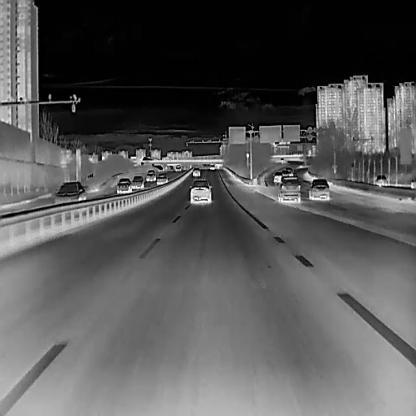car: (55, 181, 85, 203), (277, 176, 300, 202), (189, 180, 212, 202), (309, 178, 330, 199), (116, 177, 132, 193), (372, 174, 388, 185), (132, 175, 145, 188), (155, 173, 168, 185), (146, 169, 156, 180), (273, 171, 282, 183), (285, 167, 294, 177), (282, 169, 290, 177), (193, 167, 200, 176), (175, 164, 181, 171), (210, 164, 215, 169), (280, 157, 284, 162)
